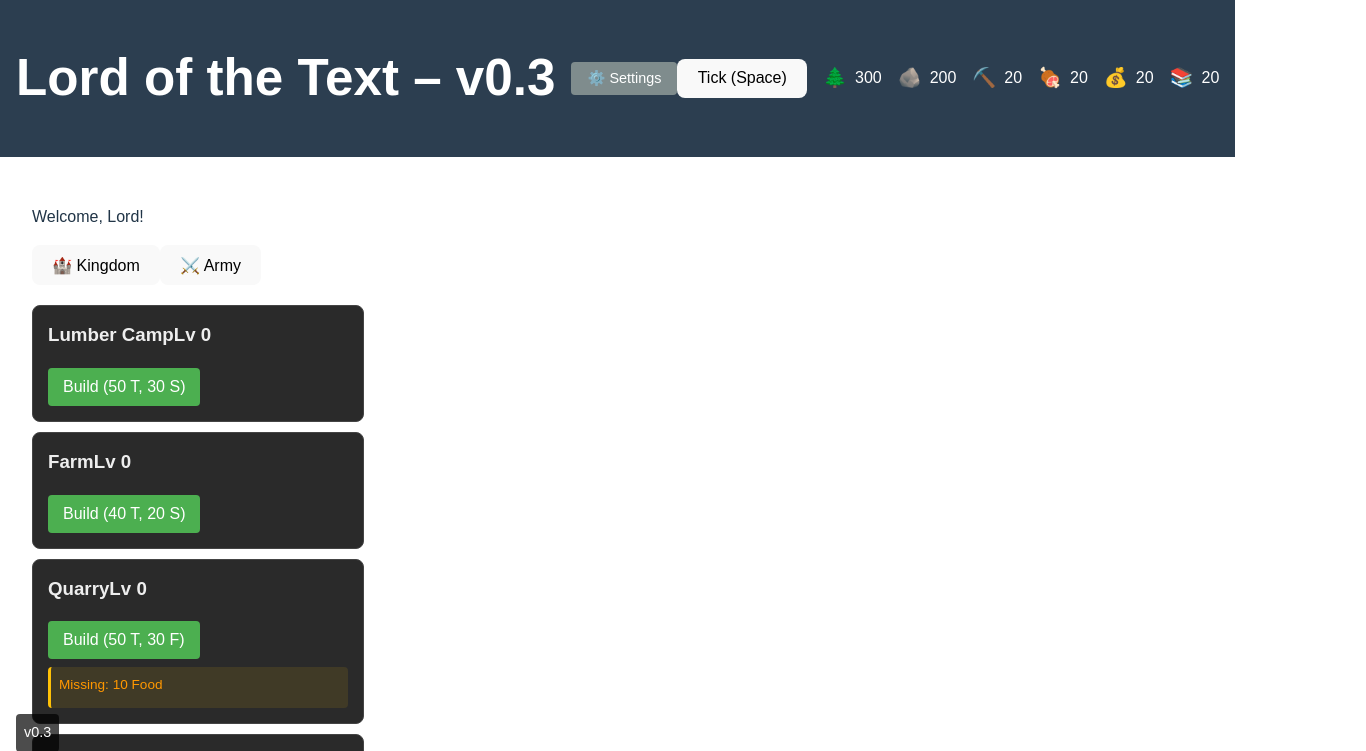
Integration Tests - End-to-End User Flows › should complete a full building-upgrade cycle
The image size is (1366, 751).
expect the heading "Lord of the Text – v0.3" is shown: met, box [16, 50, 556, 107]
expect the element with class "building-card" that starts with "Lumber Camp" is shown: met, box [32, 305, 364, 422]
Click the button "Build (50 T, 30 S)": click(124, 387) [48, 368, 200, 406]
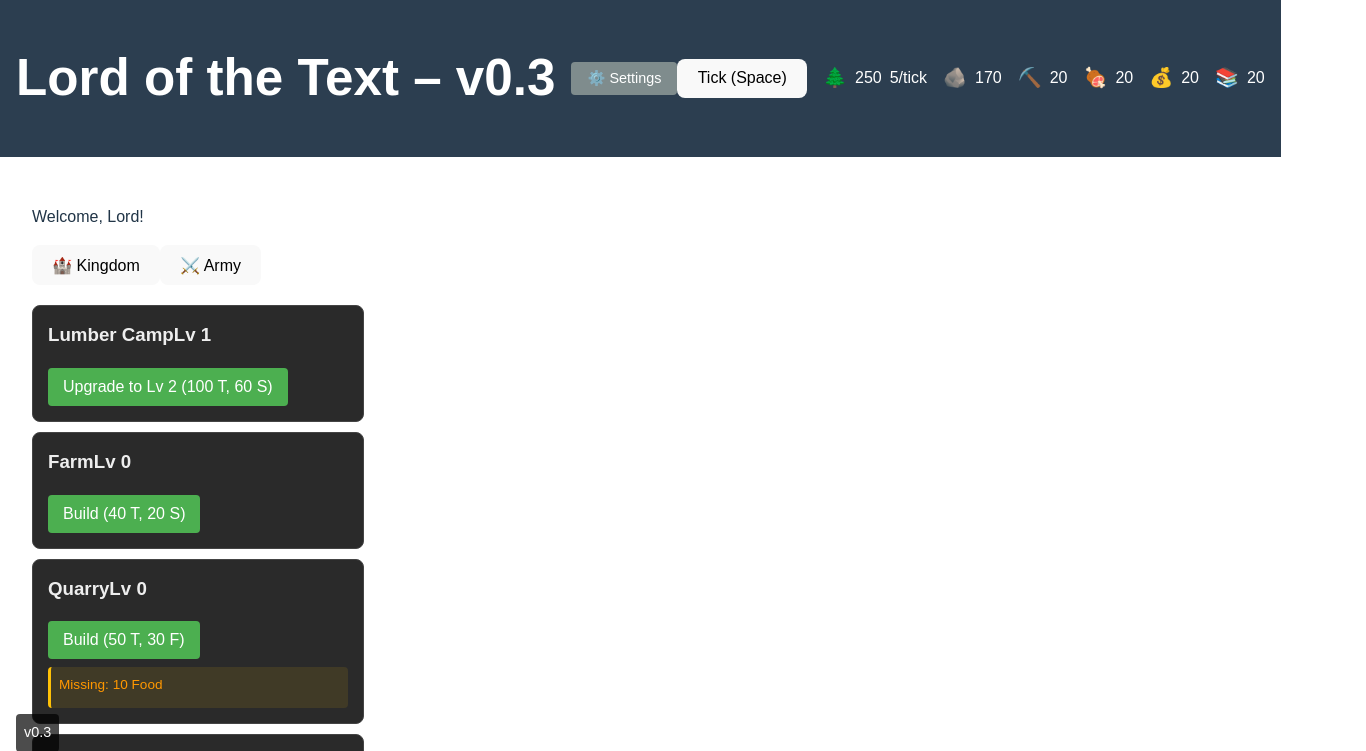
expect the heading "Lumber Camp" is shown: met, box [48, 324, 174, 345]
expect the text "250" is shown: met, box [855, 66, 882, 90]
expect the text "Lv 1" is shown: met, box [174, 324, 211, 345]
Click the button "Upgrade to Lv 2 (100 T, 60 S)": click(168, 387) [48, 368, 288, 406]
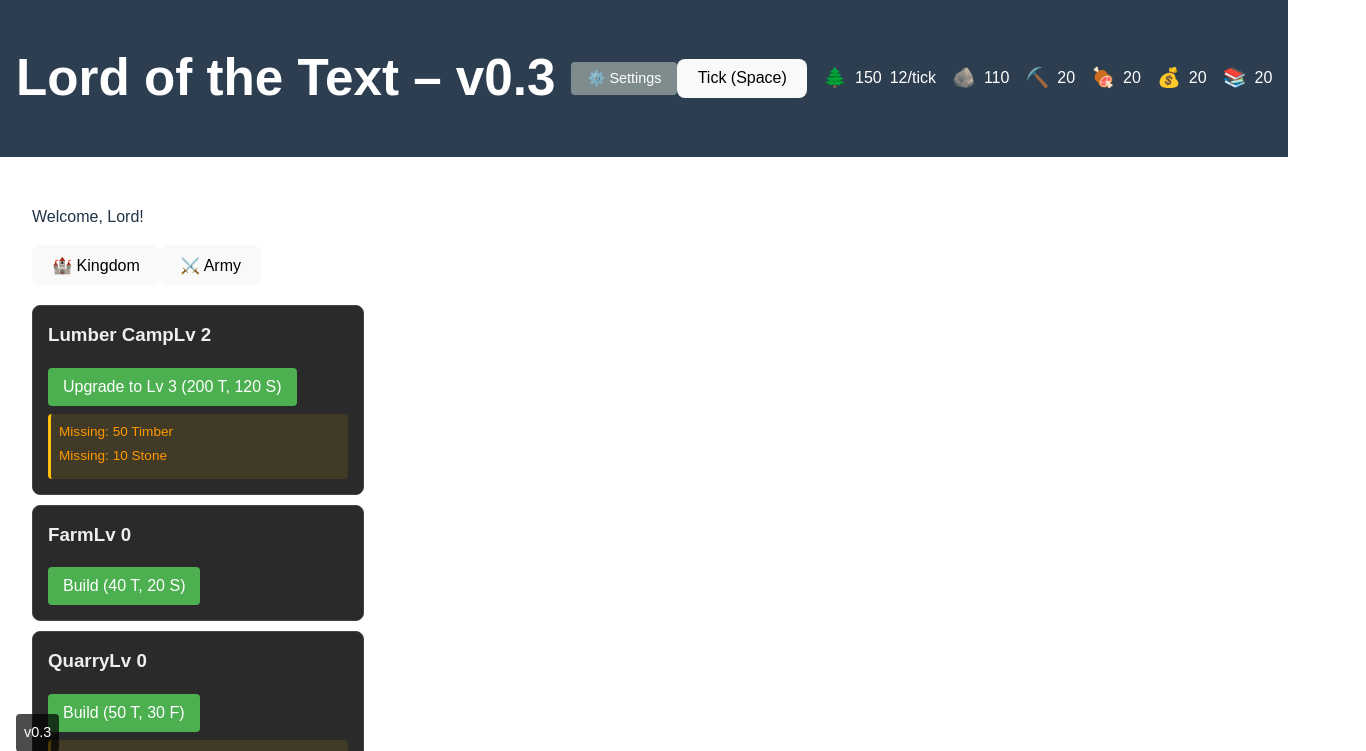
expect the text "150" is shown: met, box [855, 66, 882, 90]
